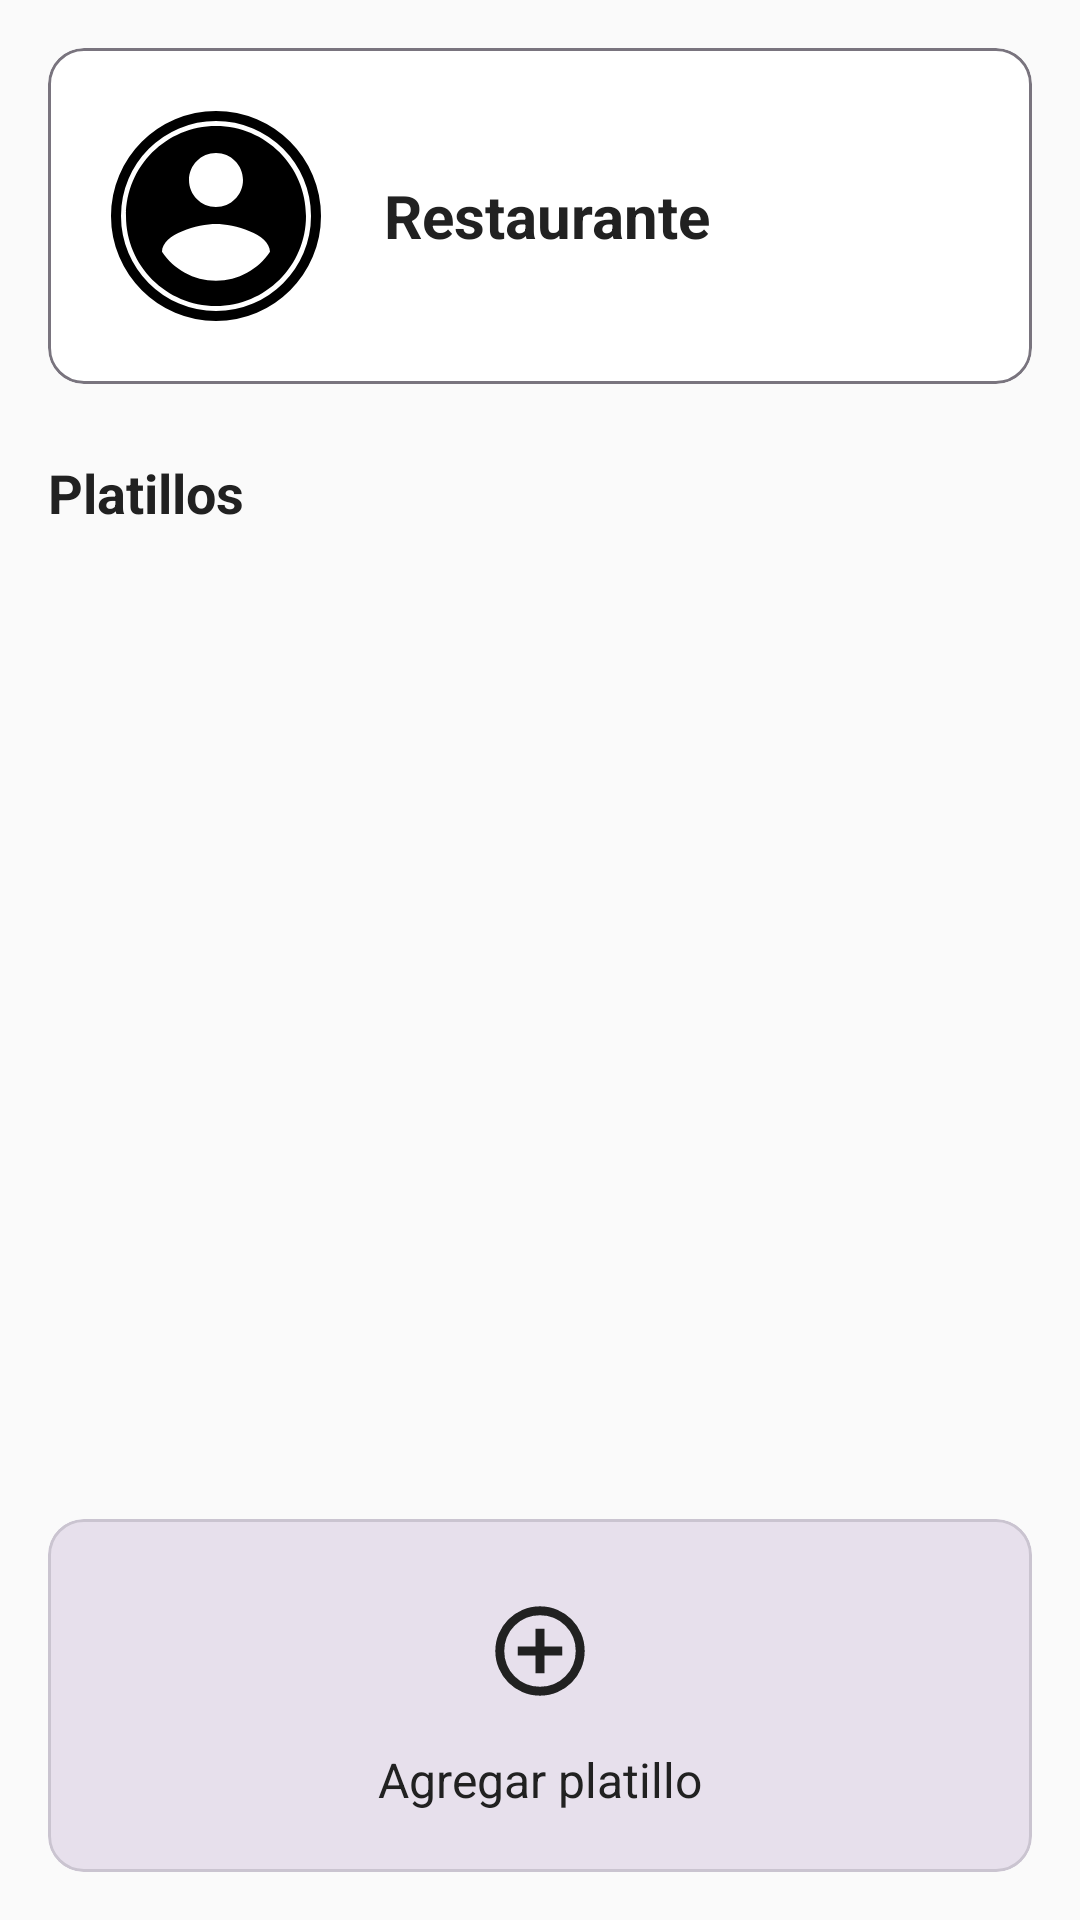

Point at icon controls on the screen. Image size 1080w x 1920h, points as point (x, y).
addcircle: point (540, 1651)
profile: point (216, 216)
